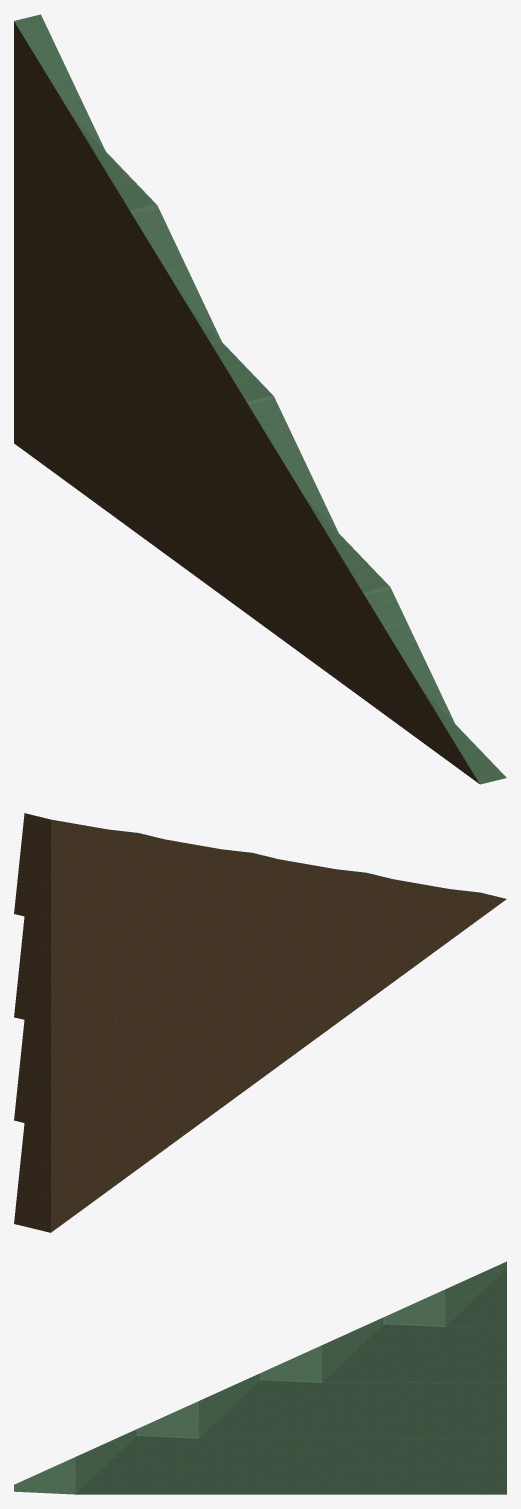
The model's file is 26RSlopeWall.fbx.
3 views of the same model, one above another, from view 1: azimuth 30°, elevation 25°; view 2: azimuth 150°, elevation 25°; view 3: azimuth 270°, elevation 25° (orthographic). The views are drawn at different scales.
Visible parts, largest first — view 1: 26RSlopeWall; view 2: 26RSlopeWall; view 3: 26RSlopeWall.
Boxes of the visible parts, box(x1,y1,x2,y2) form: 26RSlopeWall: box(14, 14, 506, 784); 26RSlopeWall: box(14, 813, 506, 1232); 26RSlopeWall: box(14, 1261, 506, 1494).
Size of the model in its own units: 14.77 by 158 by 316.
